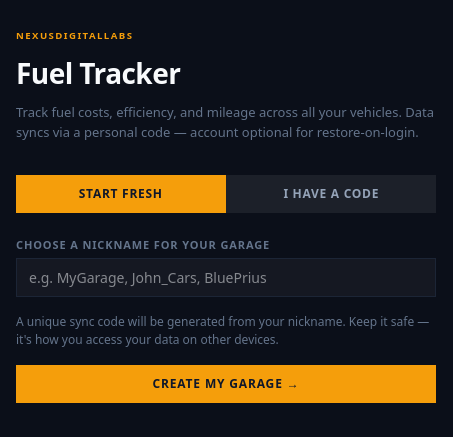
FuelTrackerClient — onboarding screen › shows a warning when @ is typed in the nickname field
Type "user@email.com" into the field with placeholder "e.g. MyGarage, John_Cars, BluePrius" at [226, 277], box left=16, top=258, right=436, bottom=297
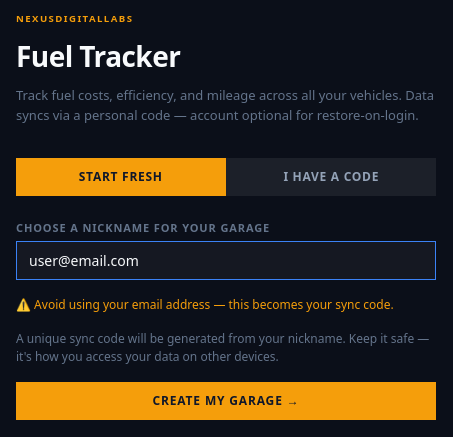
Check: the text "Avoid using your email" is shown, box left=16, top=296, right=394, bottom=313
